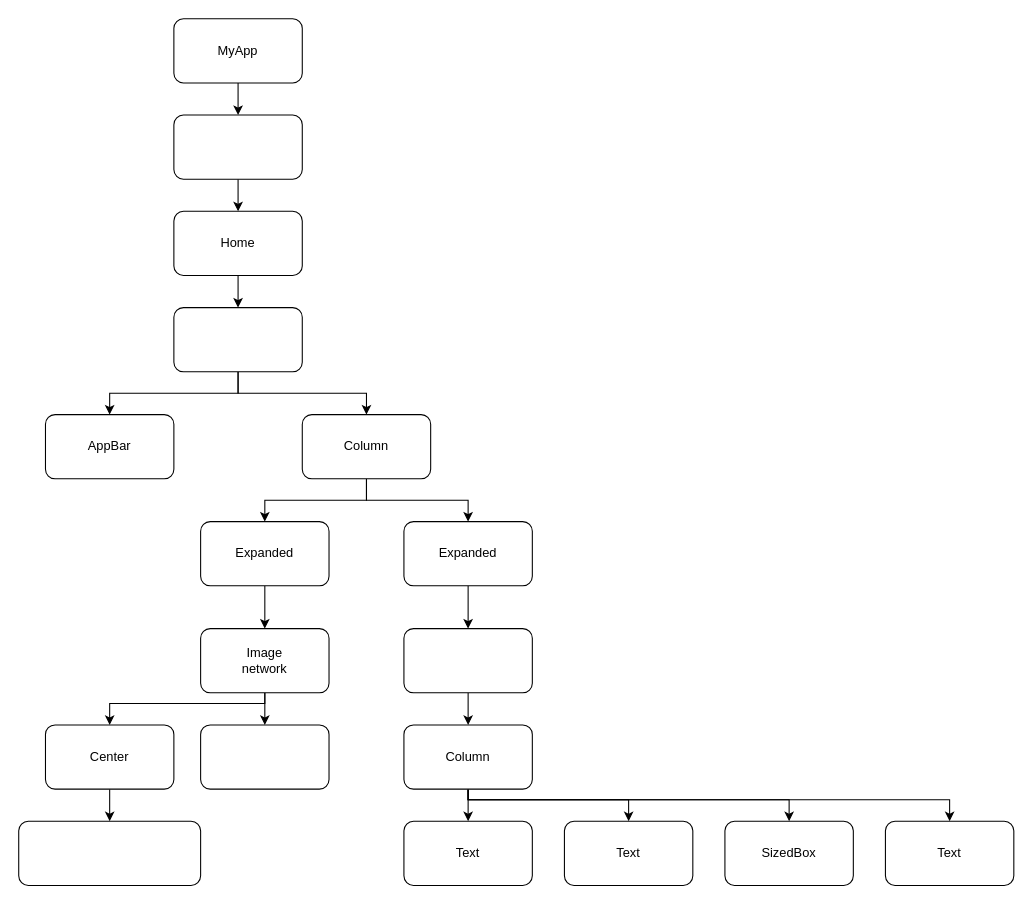
The diagram is 1033 pixels wide and 904 high, and some of its shapes have lost their labels. The centre of each missing label's shape, as x and y in pixels:
CircularProgressIndicator: the point at 109,852
Container: the point at 467,660
Icon: the point at 264,756
MaterialApp: the point at 237,146
Scaffold: the point at 237,339
